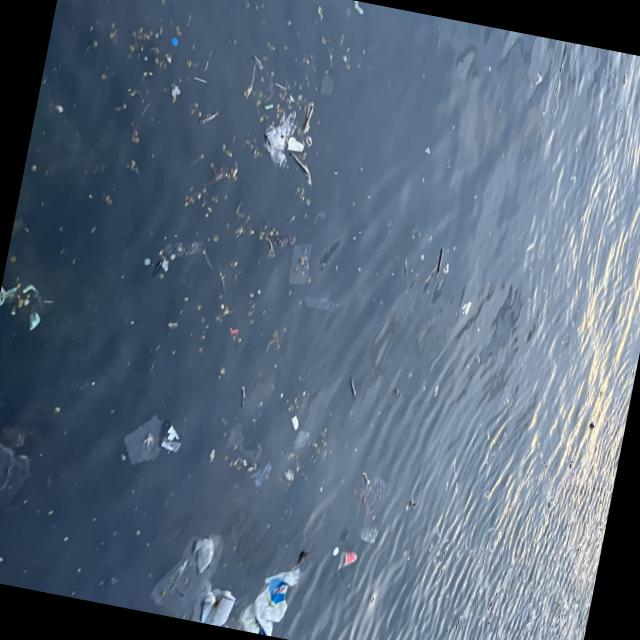foam: (287, 137, 307, 154), (289, 416, 302, 433), (461, 300, 474, 317)
plastic bag: (158, 531, 230, 622), (241, 563, 302, 631)
